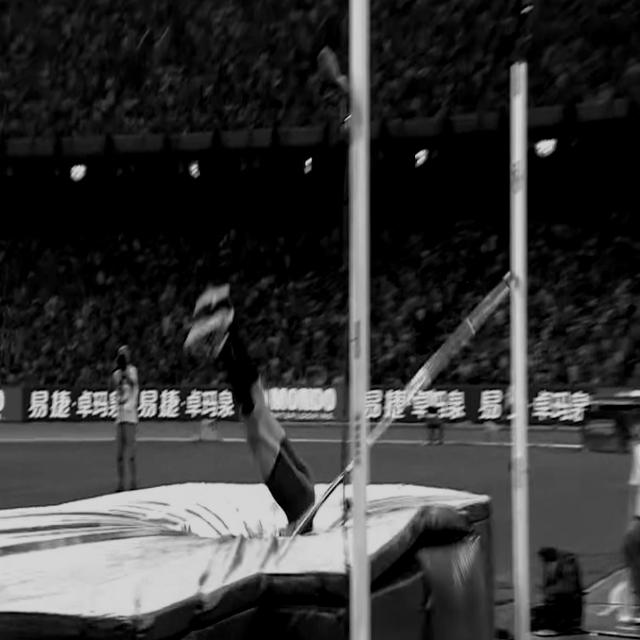land: (186, 285, 314, 532)
